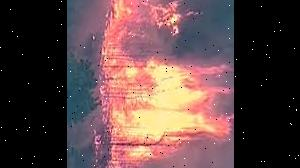fire: (89, 0, 234, 168)
